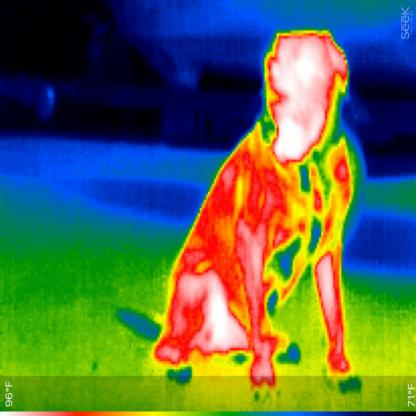dog: (149, 26, 365, 393)
